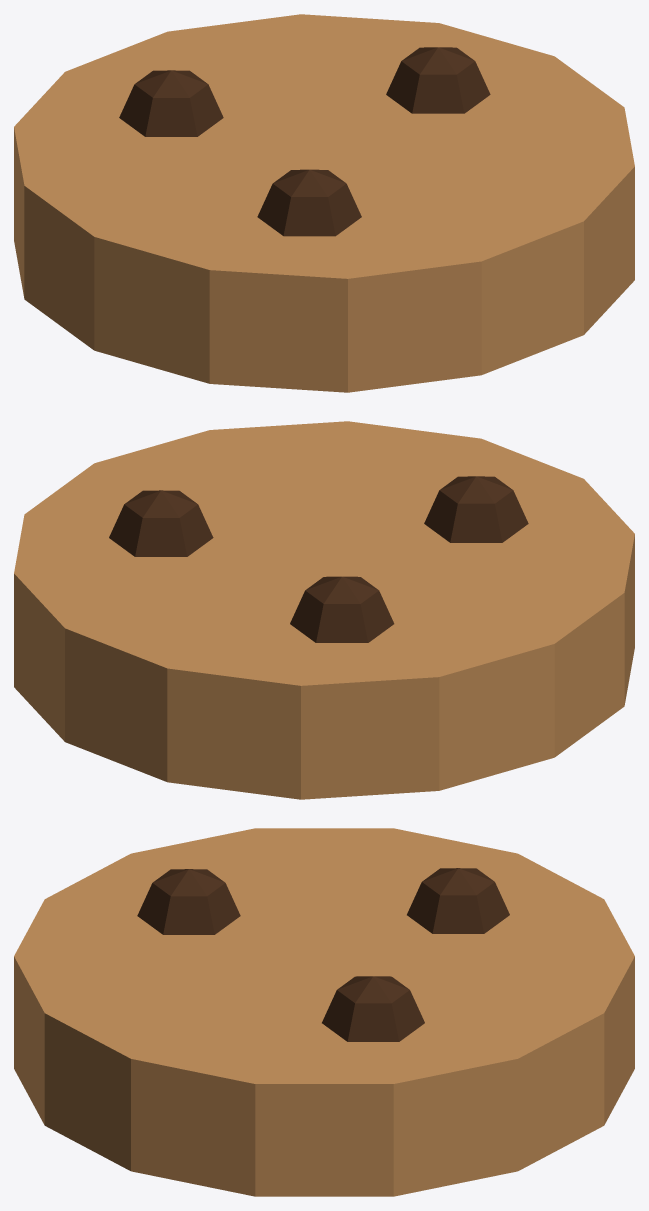
The model's file is cookie.fbx.
The picture shows the model from 3 angles, top to bottom: view 1: azimuth 30°, elevation 25°; view 2: azimuth 150°, elevation 25°; view 3: azimuth 270°, elevation 25°; orthographic projection.
Parts seen in each view (by area): view 1: cookie; view 2: cookie; view 3: cookie.
Boxes of the visible parts, x1,y1,x2,y2 form: cookie: [14, 14, 634, 392]; cookie: [14, 421, 634, 799]; cookie: [14, 828, 634, 1196].
Bounding box in the file's own units: 0.0585 × 0.017 × 0.06.
